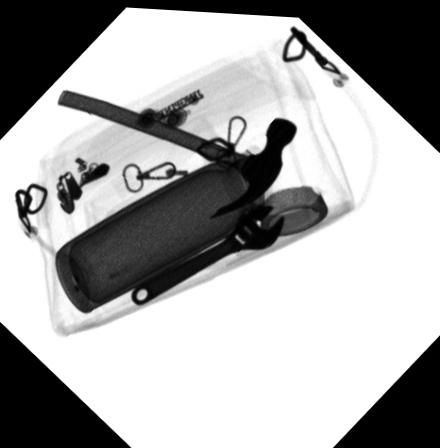Hammer: (59, 86, 299, 219)
Wrench: (131, 200, 289, 304)
